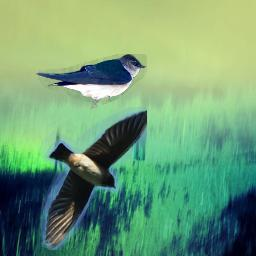Swallow: (41, 107, 147, 250), (36, 54, 147, 109)
